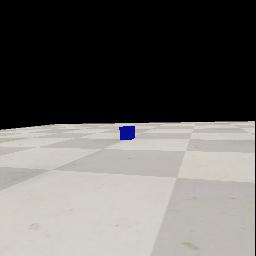box: (119, 126, 135, 140)
